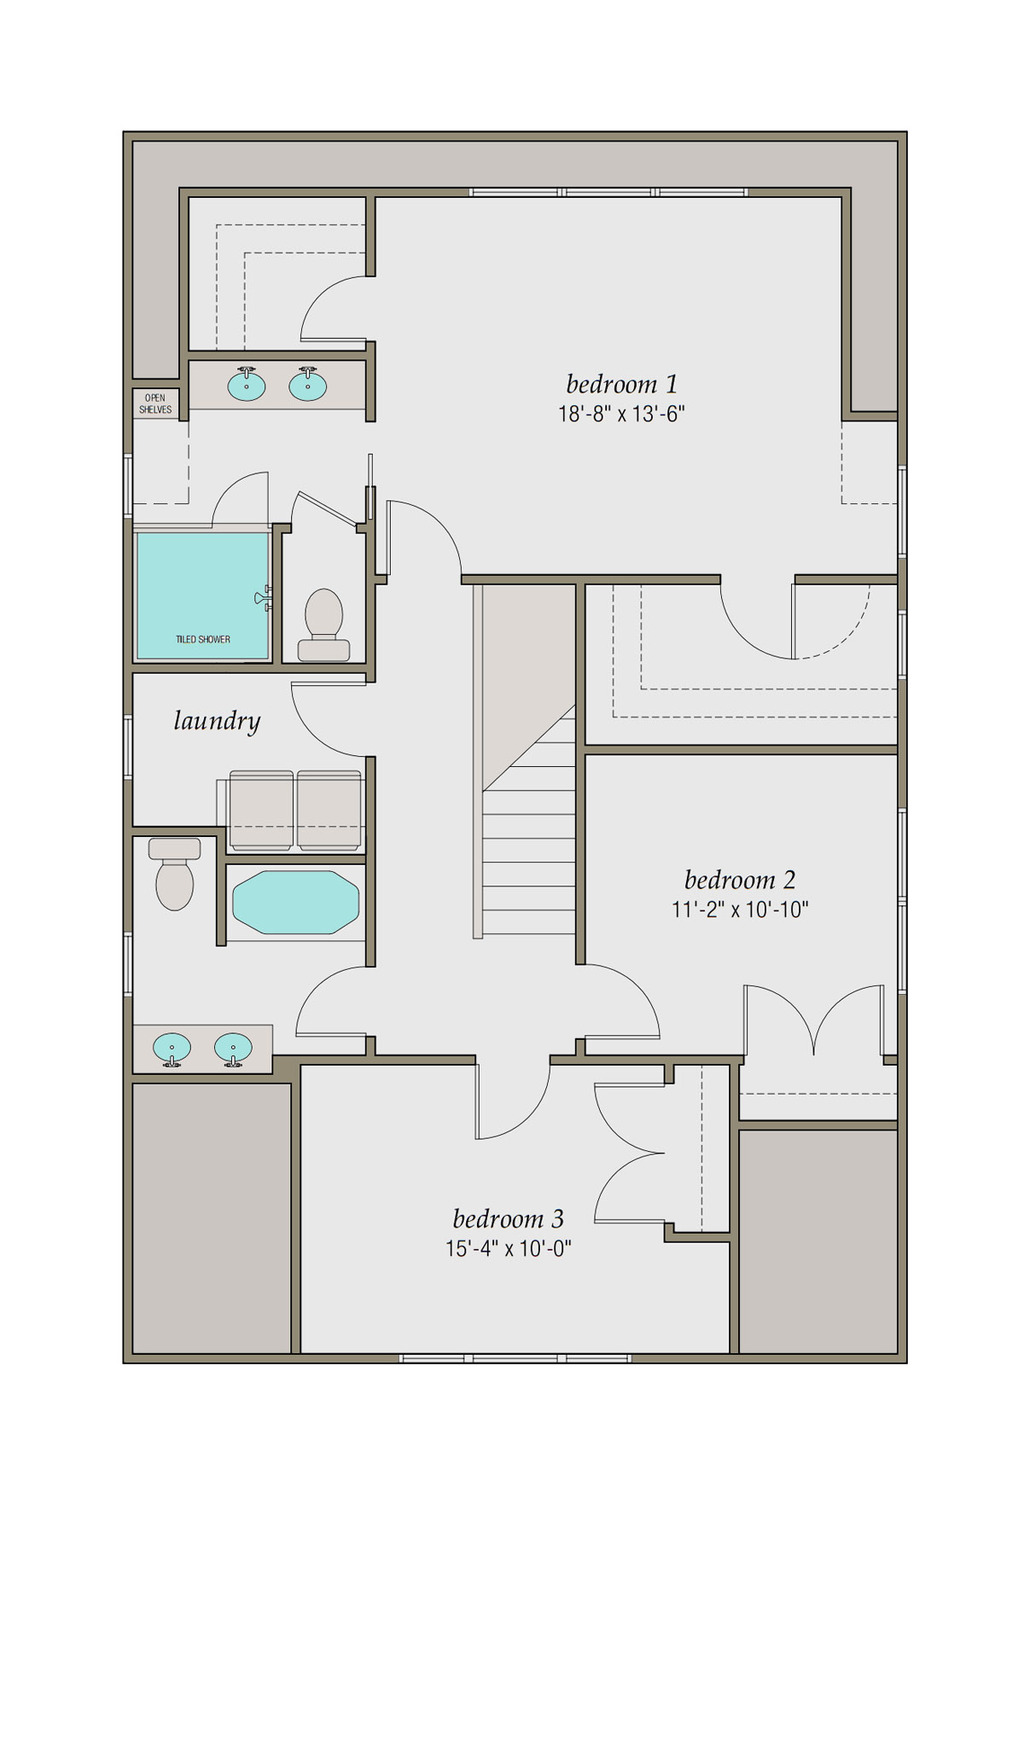door: (586, 1074, 719, 1236), (727, 982, 886, 1069), (378, 487, 483, 583), (282, 274, 397, 358), (473, 1055, 564, 1153), (708, 576, 809, 663), (193, 458, 289, 534), (286, 966, 373, 1040), (589, 955, 662, 1036)
large_sink: (143, 823, 213, 931), (289, 580, 351, 674)
small_sink: (129, 1012, 276, 1074), (194, 355, 336, 405)
stairs: (449, 663, 653, 940)
tub: (213, 856, 375, 955)
window: (460, 180, 773, 214), (875, 609, 916, 690), (110, 712, 148, 778), (897, 463, 913, 563), (124, 439, 132, 525)
